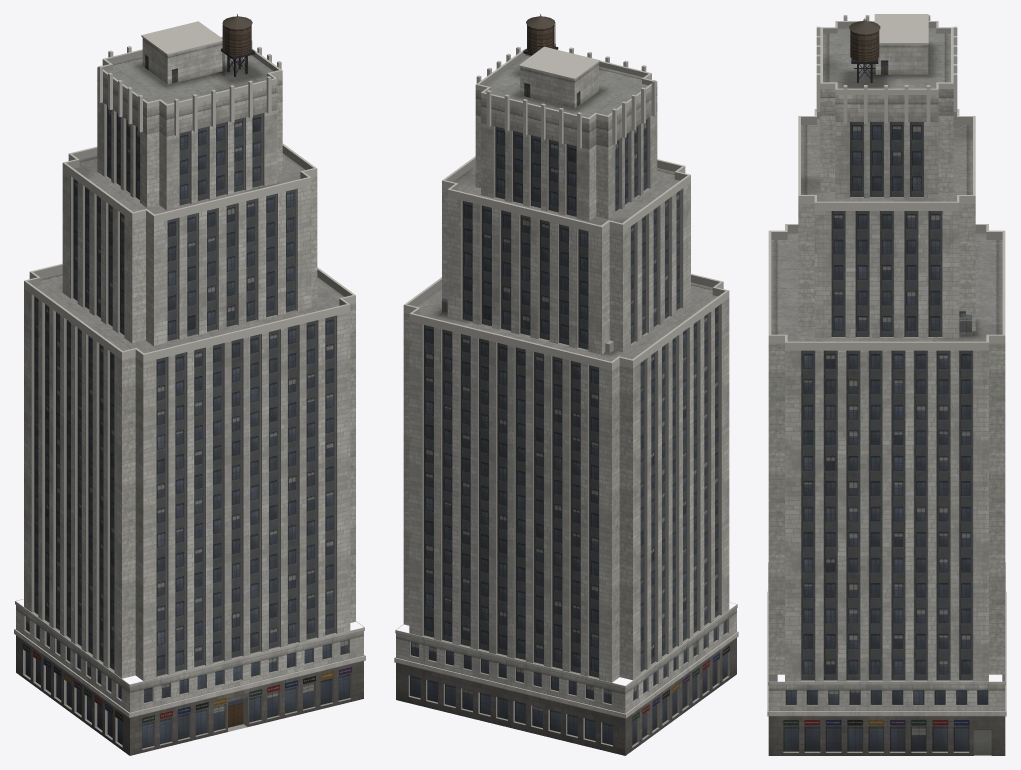
File: nyc_deco_b.glb
3 views of the same model, side by side, from view 1: azimuth 30°, elevation 25°; view 2: azimuth 150°, elevation 25°; view 3: azimuth 270°, elevation 25° (orthographic). The views are drawn at different scales.
Visible parts, largest first — view 1: nyc_deco_b; view 2: nyc_deco_b; view 3: nyc_deco_b.
Part boxes in pixels (box(x1,y1,x2,y2)): nyc_deco_b: box(14, 14, 365, 755); nyc_deco_b: box(394, 14, 738, 755); nyc_deco_b: box(767, 14, 1006, 755).
Bounding box in the file's own units: 38.39 × 104 × 32.4.
Materials: 1 (1 with a texture image).
